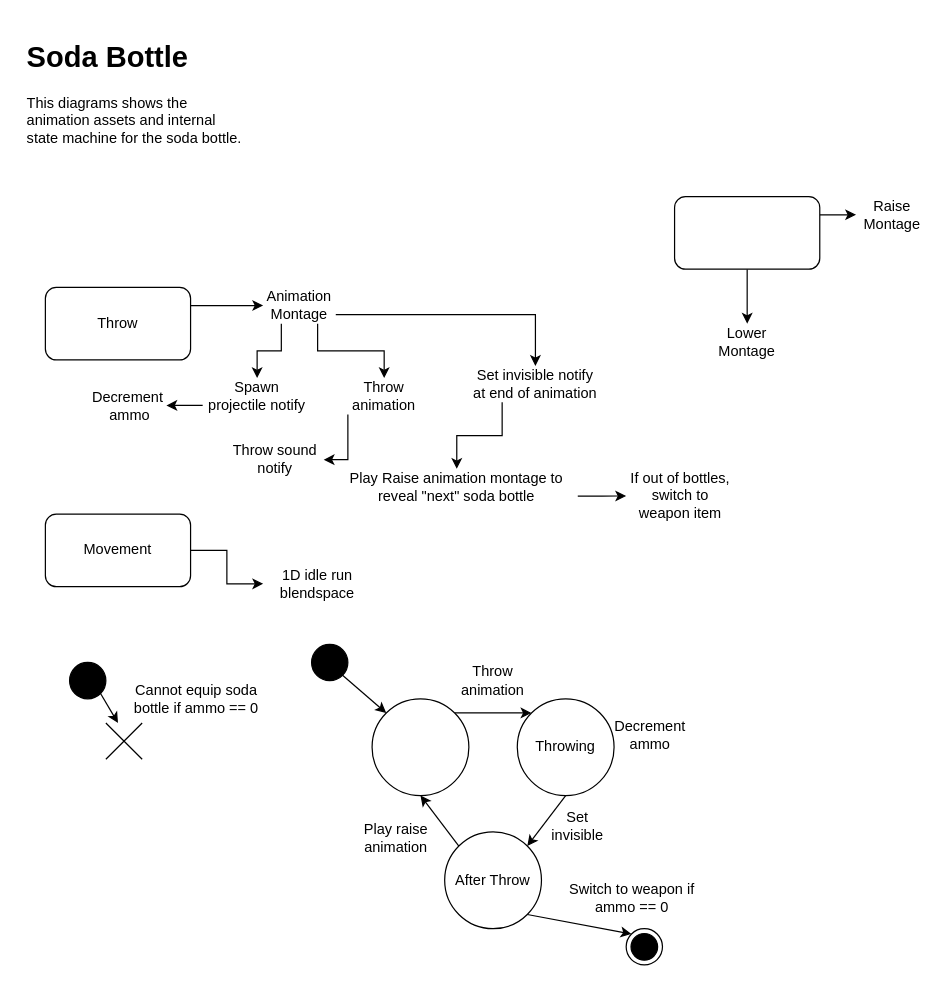
Some shapes in this 949 by 986 pixel diagram are drawn without their labels. Here are the shapes that lost their labels. From the top down, the box of each, then its label:
(673, 195, 820, 269): Raise Lower
(371, 698, 469, 796): Has Ammo
